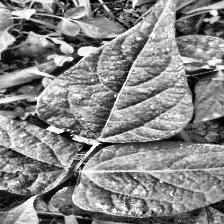ALS: (44, 0, 186, 137), (74, 142, 224, 214), (0, 95, 72, 195), (195, 18, 224, 96)
